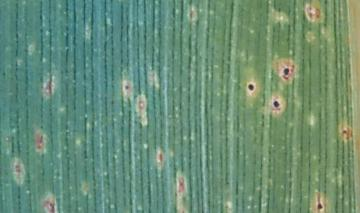tarspot: (246, 83, 255, 92), (283, 66, 289, 78), (272, 100, 280, 108), (123, 83, 130, 91), (341, 127, 348, 135), (317, 203, 323, 210)
